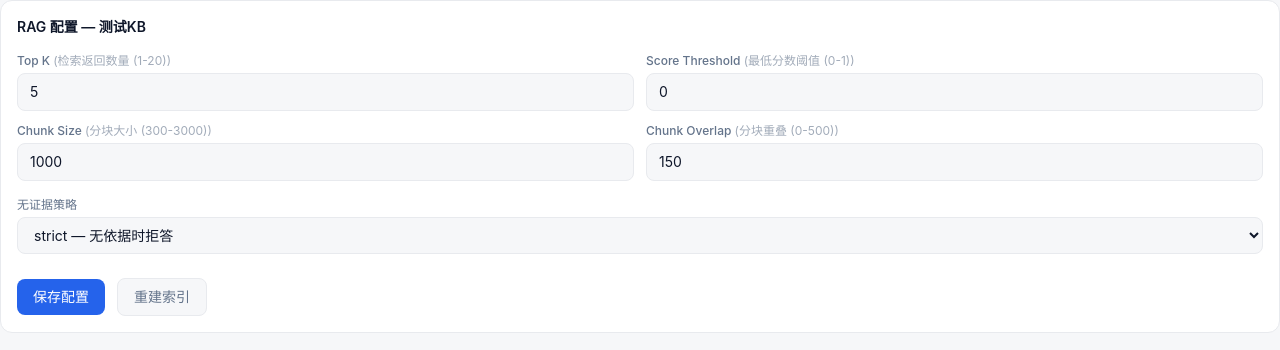
RAGConfigPanel › 重建索引成功显示 queued 数量
This screenshot has width=1280, height=350.
Expected: the number field showing "5" below "Top K" is shown, [17, 73, 634, 111]
Click the button "重建索引" at (162, 297), box [117, 278, 207, 316]
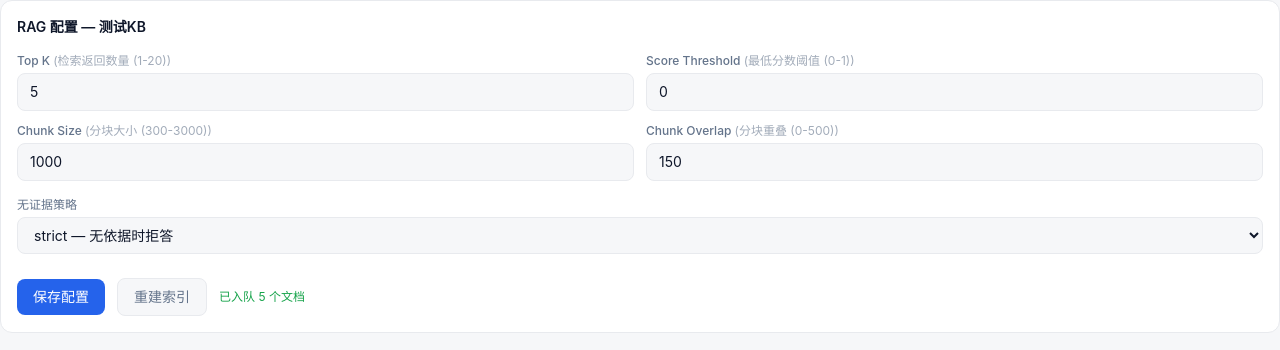
Result: the text "已入队 5 个文档" is shown at [219, 289, 305, 305]
